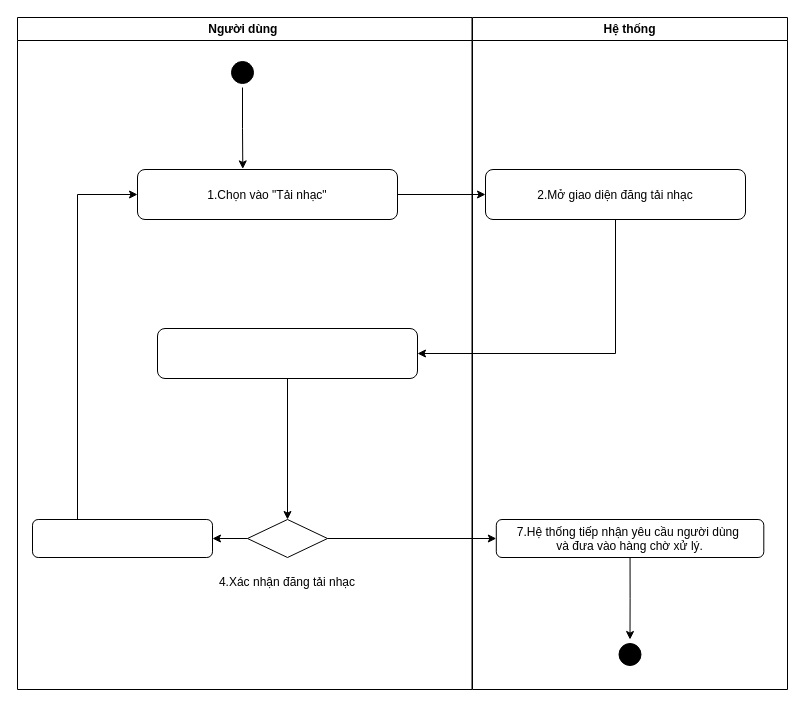
Some shapes in this 805 by 707 pixel diagram are drawn without their labels. Each missing label, with the centre of its shape:
"3.Điền thông tin của bài hát sắp đăng tải (Thể loại, ca sĩ,..vv)" goes at pixel 287 353.
"6.1 Chọn huỷ trên form đăng tải" goes at pixel 122 538.
